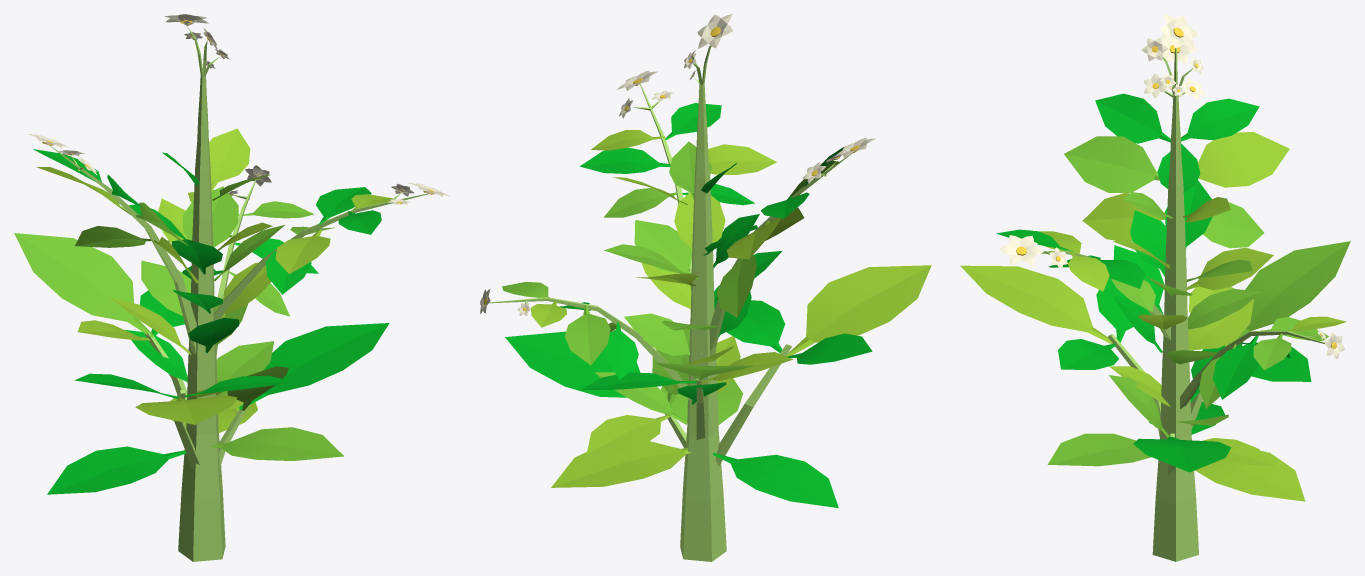
Rendered from mesh_stage3bush01.fbx.
3 views of the same model, side by side, from view 1: azimuth 30°, elevation 25°; view 2: azimuth 150°, elevation 25°; view 3: azimuth 270°, elevation 25° (orthographic). The views are drawn at different scales.
Parts seen in each view (by area): view 1: mesh_stage3bush01; view 2: mesh_stage3bush01; view 3: mesh_stage3bush01.
Boxes of the visible parts, x1=… form: mesh_stage3bush01: x1=14, y1=14, x2=450, y2=561; mesh_stage3bush01: x1=480, y1=14, x2=931, y2=561; mesh_stage3bush01: x1=960, y1=14, x2=1350, y2=561.
Bounding box in the file's own units: 64.49 × 92.54 × 62.31.
